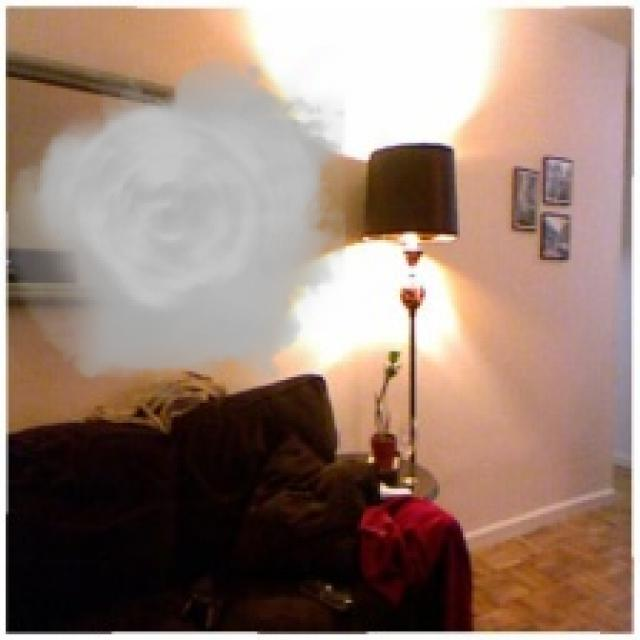smoke: (3, 46, 346, 397)
